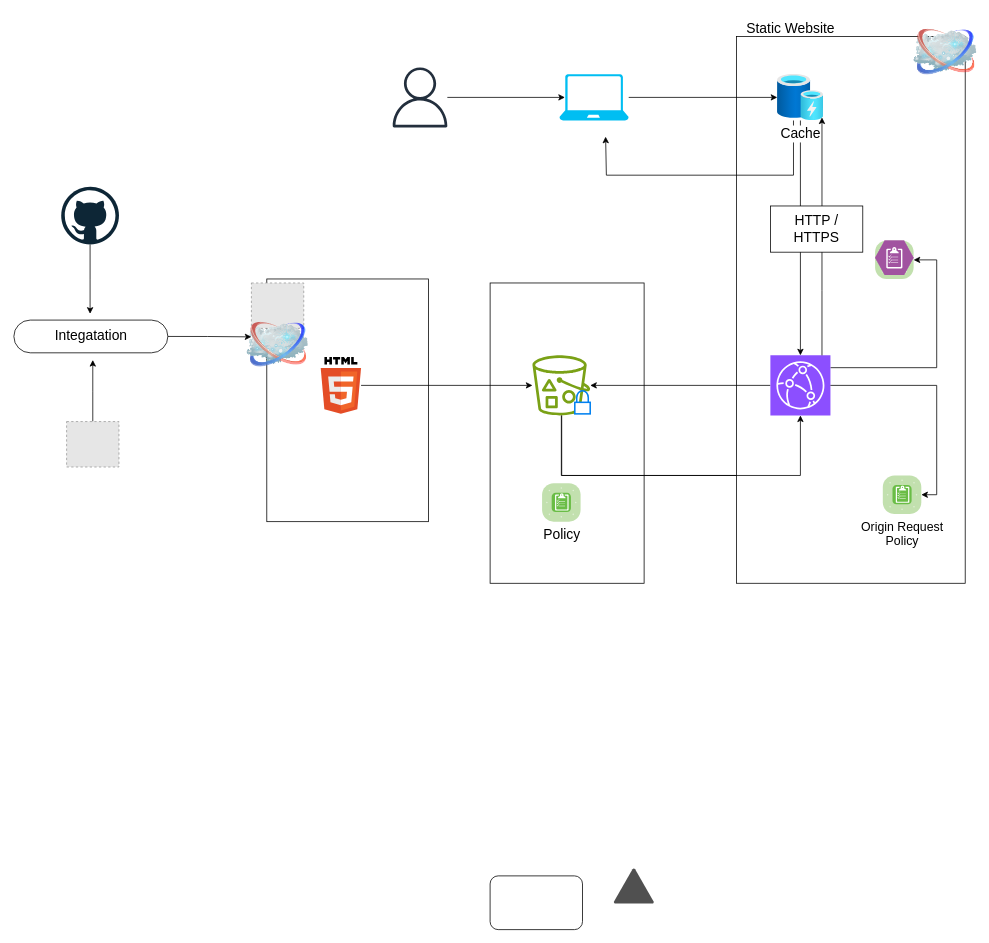
Image size: 989x943. Some labels were removed from this diagram. Grey dashed boxes stand in for pictures. Here are the shapes that lost their labels. From the top down, the box of each, then its label:
(874, 240, 914, 279): Cache Policy
(489, 875, 583, 930): Distributed Domain Name
